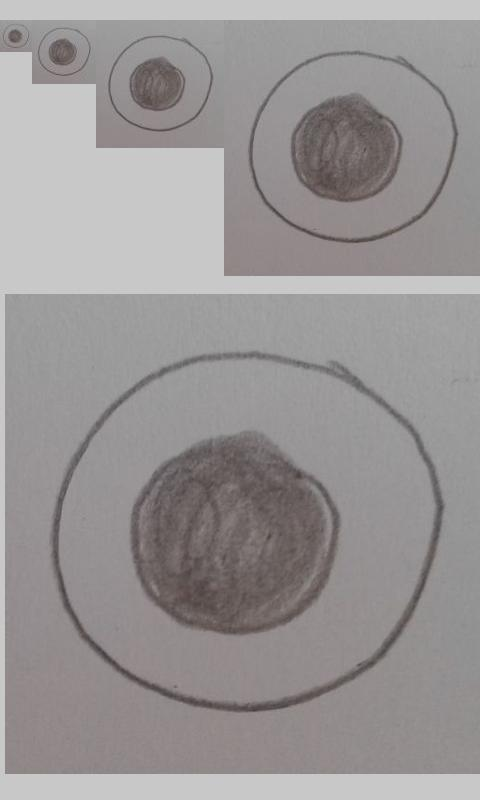radio_button: (45, 347, 448, 716), (246, 49, 460, 244), (107, 34, 214, 133), (37, 26, 91, 77), (2, 23, 30, 49)
